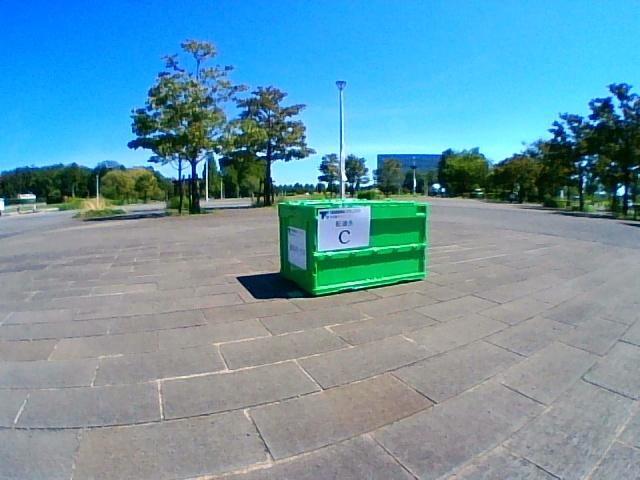green_box: (278, 198, 427, 295)
tag_c: (318, 210, 368, 246)
